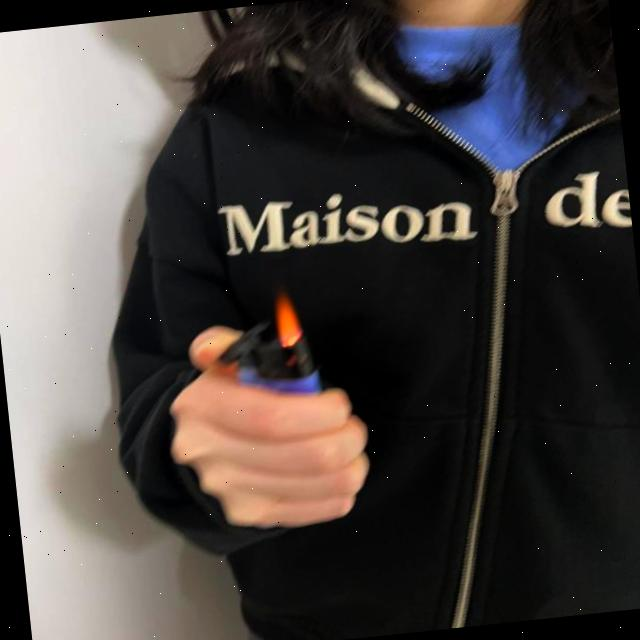fire: (272, 286, 306, 346)
